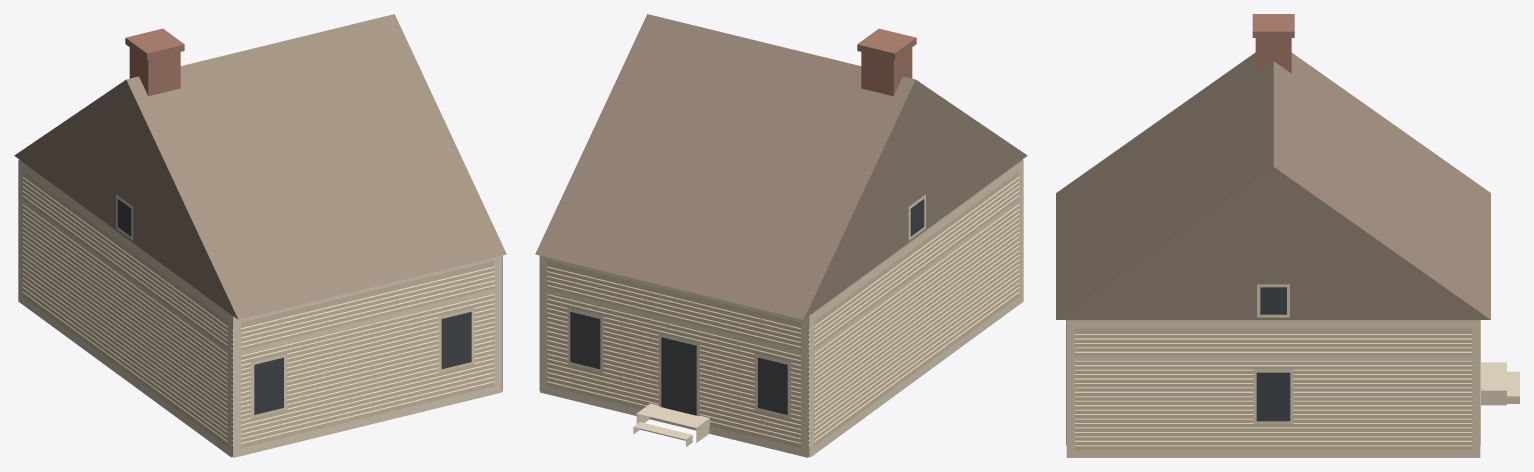
File: recon_1835_blk_randolph_clark_d6_04__inferred_1835.glb
3 views of the same model, side by side, from view 1: azimuth 30°, elevation 25°; view 2: azimuth 150°, elevation 25°; view 3: azimuth 270°, elevation 25° (orthographic). The views are drawn at different scales.
Visible parts, largest first — view 1: recon_1835_blk_randolph_clark_d6_04__inferred_1835; view 2: recon_1835_blk_randolph_clark_d6_04__inferred_1835; view 3: recon_1835_blk_randolph_clark_d6_04__inferred_1835.
Part boxes in pixels (x1=…): recon_1835_blk_randolph_clark_d6_04__inferred_1835: x1=14, y1=14, x2=506, y2=457; recon_1835_blk_randolph_clark_d6_04__inferred_1835: x1=535, y1=14, x2=1027, y2=457; recon_1835_blk_randolph_clark_d6_04__inferred_1835: x1=1056, y1=14, x2=1519, y2=457.
Bounding box in the file's own units: 7.08 × 8.24 × 10.78.
